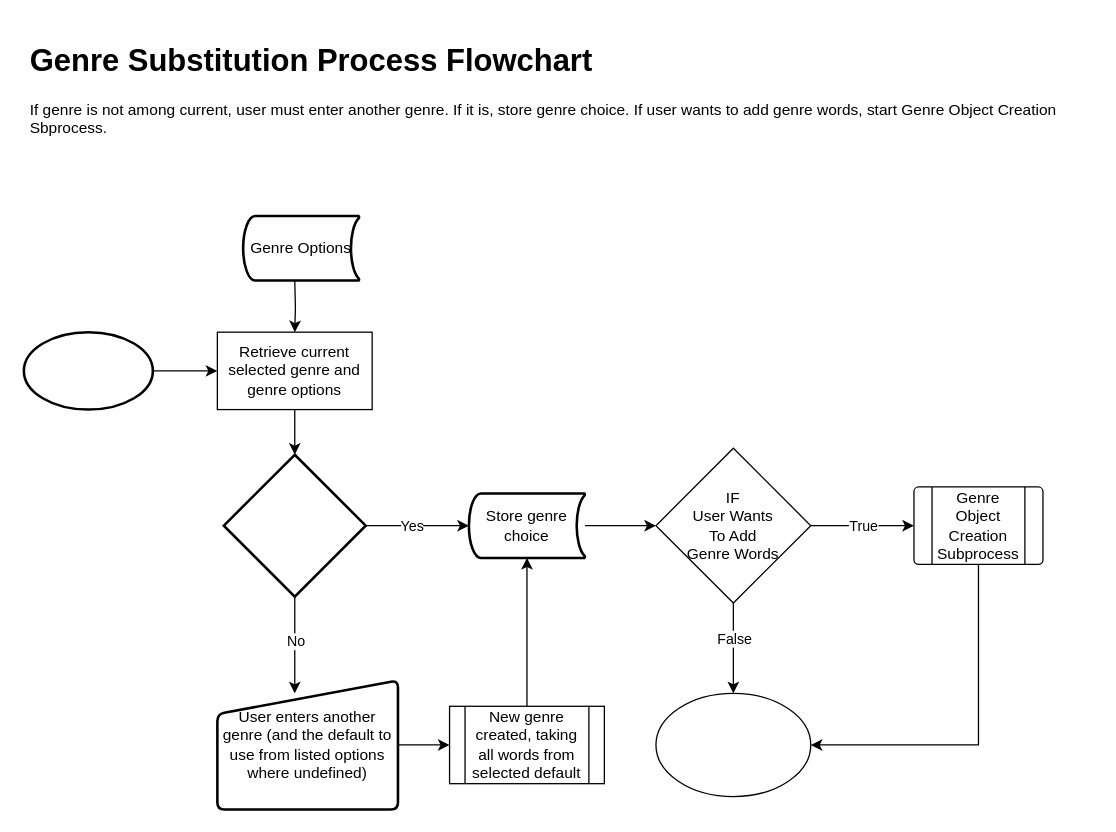
This 1116x832 diagram has some shape labels left out. Here are the shapes that lost their labels. From the top down, the box of each, then its label:
(22, 330, 154, 410): Start Genre Substitution Process
(222, 453, 366, 597): Is genre among current?
(655, 692, 811, 797): Stop Genre Subsitution Subprocess
